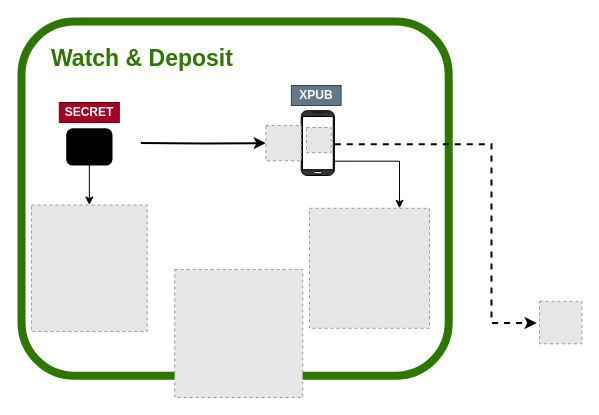
The diagram is 599 pixels wide and 415 high, and some of its shapes have lost their labels. Grey dashed boxes stand in for pictures. Each missing label, with the centre of its shape:
"PIN" goes at [89,146].
"Watch-Only Wallet" goes at [317,143].
